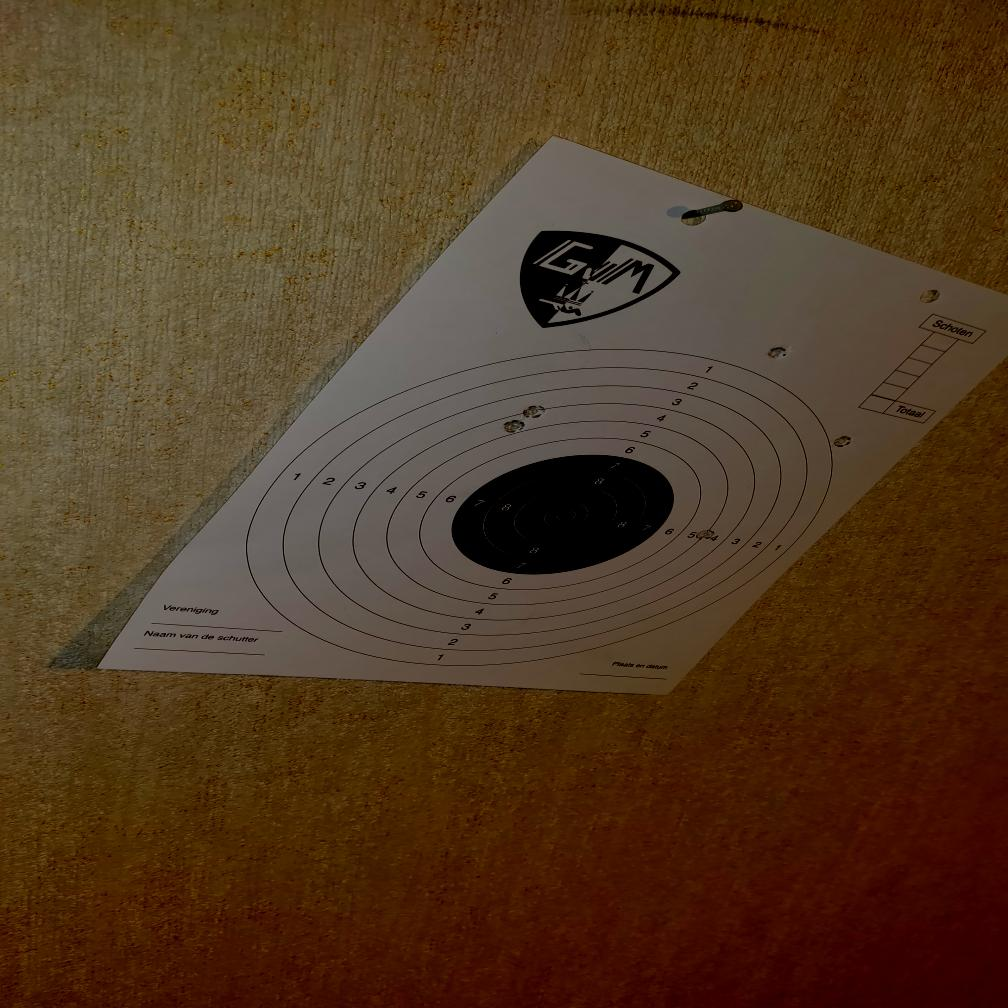0: (767, 346, 788, 359), (696, 529, 717, 541), (835, 435, 852, 448)
4: (522, 406, 545, 418), (503, 420, 524, 433)
Target: (242, 348, 837, 668)
black_contour: (450, 453, 677, 575)
